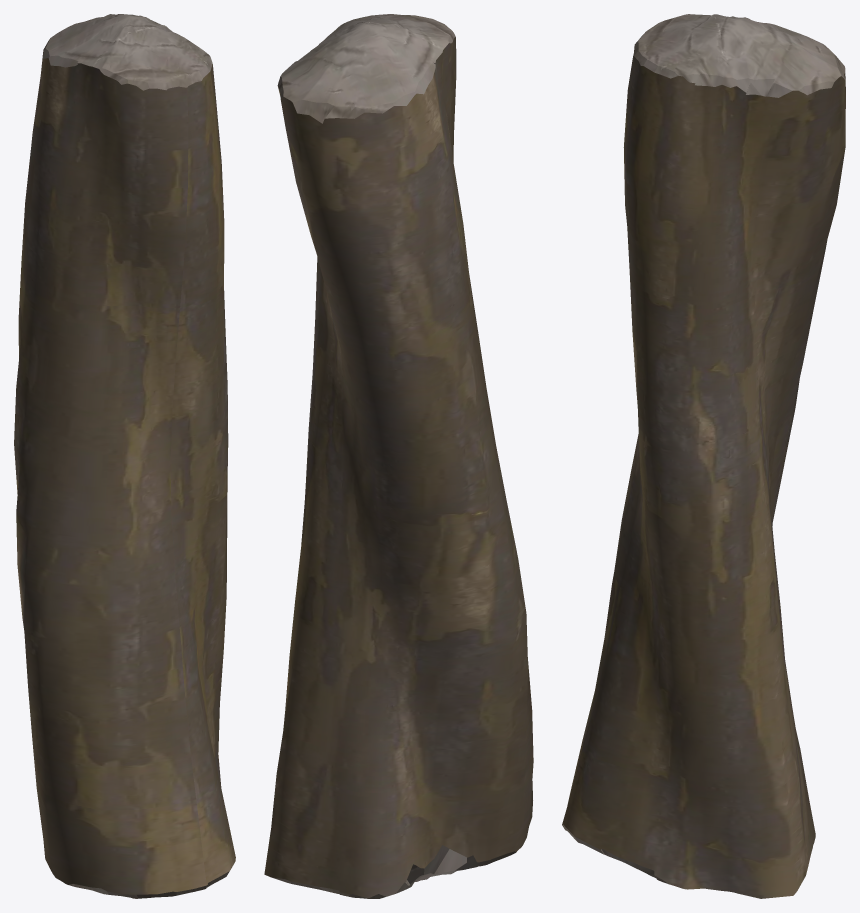
3 views of the same model, side by side, from view 1: azimuth 30°, elevation 25°; view 2: azimuth 150°, elevation 25°; view 3: azimuth 270°, elevation 25° (orthographic). The views are drawn at different scales.
Parts seen in each view (by area): view 1: SM_Yew_01_half_bottom_LOD0; view 2: SM_Yew_01_half_bottom_LOD0; view 3: SM_Yew_01_half_bottom_LOD0.
Boxes of the visible parts, x1,y1,x2,y2 form: SM_Yew_01_half_bottom_LOD0: [14, 14, 235, 898]; SM_Yew_01_half_bottom_LOD0: [264, 14, 533, 898]; SM_Yew_01_half_bottom_LOD0: [562, 14, 845, 898].
Size of the model in its own units: 1.04 by 4.12 by 1.23.
Materials: 1 (1 with a texture image).
